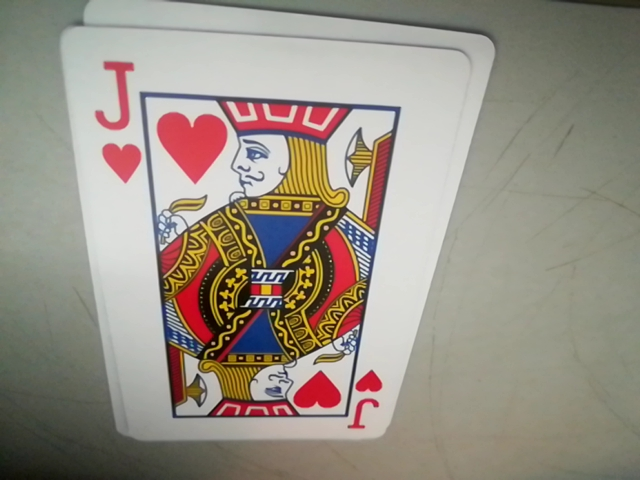hx j: (93, 60, 144, 185), (346, 367, 385, 431)
